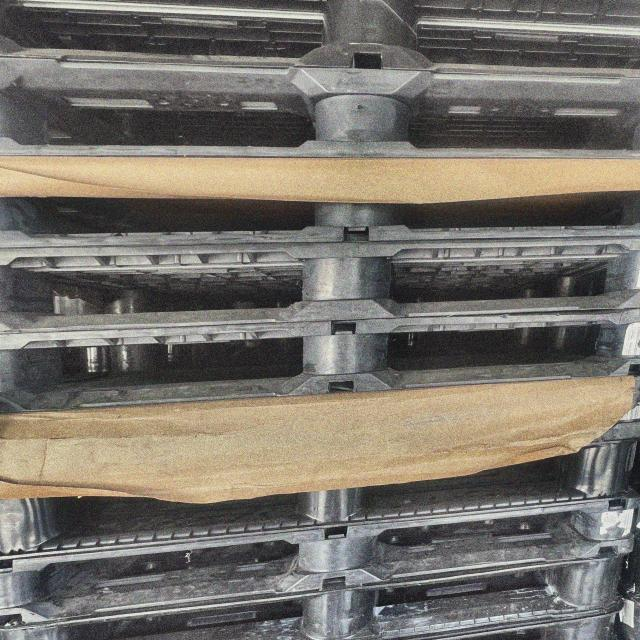igps: (0, 414, 640, 568), (0, 486, 640, 635), (0, 41, 640, 174), (0, 298, 640, 429), (0, 224, 640, 344), (0, 548, 629, 640), (0, 0, 640, 90), (380, 589, 627, 640)
